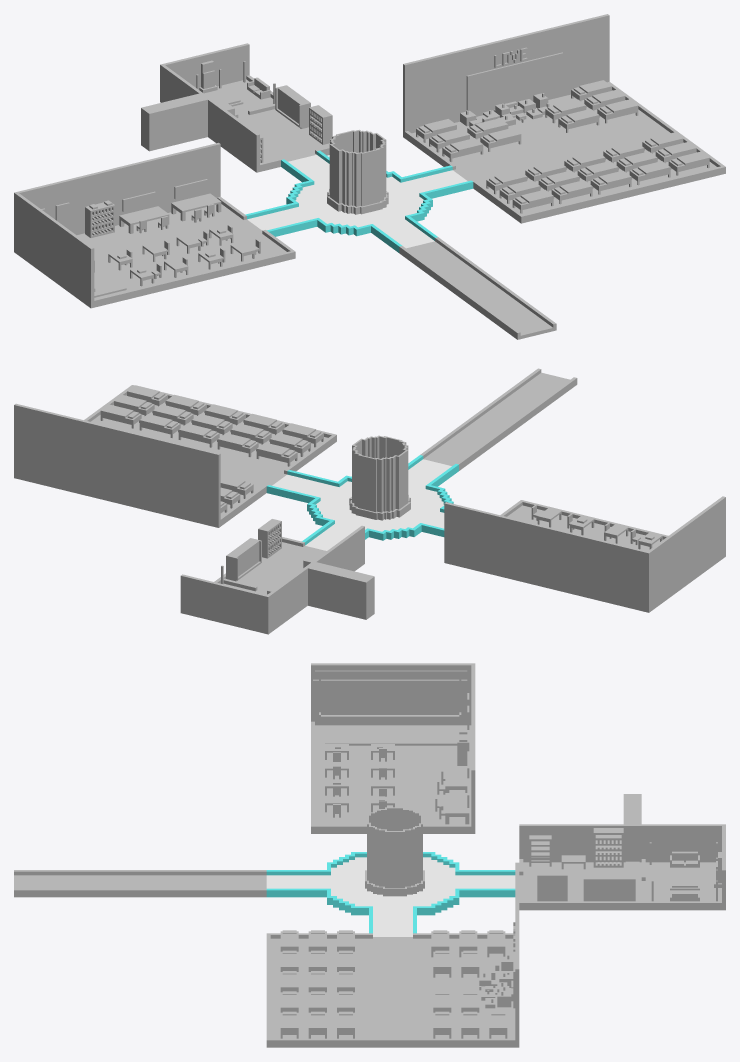
Rendered from QG_Girafas.fbx.
3 renders of one model, top to bottom at view 1: azimuth 30°, elevation 25°; view 2: azimuth 150°, elevation 25°; view 3: azimuth 270°, elevation 25°, orthographic. The views are drawn at different scales.
Visible parts, largest first — view 1: QG_Girafas_19:QG_Girafas_11, QG_Girafas_11:QG_Girafas_2, QG_Girafas_46:QG_Girafas_1, QG_Girafas_9:QG_Girafas_0, QG_Girafas_15:QG_Girafas_6, QG_Girafas_14:QG_Girafas_5, QG_Girafas_13:QG_Girafas_4, QG_Girafas_20:QG_Girafas_12, QG_Girafas_16:QG_Girafas_8, QG_Girafas_22:QG_Girafas_14, QG_Girafas_36:QG_Girafas_24, QG_Girafas_23:QG_Girafas_15 (+5 smaller); view 2: QG_Girafas_19:QG_Girafas_11, QG_Girafas_11:QG_Girafas_2, QG_Girafas_46:QG_Girafas_1, QG_Girafas_9:QG_Girafas_0, QG_Girafas_15:QG_Girafas_6, QG_Girafas_13:QG_Girafas_4, QG_Girafas_20:QG_Girafas_12, QG_Girafas_14:QG_Girafas_5, QG_Girafas_36:QG_Girafas_24, QG_Girafas_44:QG_Girafas_31, QG_Girafas_22:QG_Girafas_14, QG_Girafas_21:QG_Girafas_13; view 3: QG_Girafas_19:QG_Girafas_11, QG_Girafas_11:QG_Girafas_2, QG_Girafas_46:QG_Girafas_1, QG_Girafas_9:QG_Girafas_0, QG_Girafas_15:QG_Girafas_6, QG_Girafas_13:QG_Girafas_4, QG_Girafas_25:QG_Girafas_17, QG_Girafas_36:QG_Girafas_24, QG_Girafas_20:QG_Girafas_12, QG_Girafas_22:QG_Girafas_14, QG_Girafas_14:QG_Girafas_5, QG_Girafas_29:QG_Girafas_21 (+5 smaller).
Part boxes in pixels (x1=…): QG_Girafas_19:QG_Girafas_11: x1=403, y1=14, x2=725, y2=223; QG_Girafas_11:QG_Girafas_2: x1=14, y1=142, x2=295, y2=308; QG_Girafas_46:QG_Girafas_1: x1=141, y1=43, x2=329, y2=172; QG_Girafas_9:QG_Girafas_0: x1=245, y1=150, x2=473, y2=252; QG_Girafas_15:QG_Girafas_6: x1=418, y1=80, x2=709, y2=203; QG_Girafas_14:QG_Girafas_5: x1=416, y1=88, x2=709, y2=213; QG_Girafas_13:QG_Girafas_4: x1=399, y1=237, x2=556, y2=339; QG_Girafas_20:QG_Girafas_12: x1=329, y1=129, x2=386, y2=206; QG_Girafas_16:QG_Girafas_8: x1=466, y1=52, x2=563, y2=110; QG_Girafas_22:QG_Girafas_14: x1=108, y1=193, x2=254, y2=286; QG_Girafas_36:QG_Girafas_24: x1=213, y1=85, x2=332, y2=162; QG_Girafas_23:QG_Girafas_15: x1=85, y1=202, x2=260, y2=279; QG_Girafas_19:QG_Girafas_11: x1=14, y1=385, x2=336, y2=527; QG_Girafas_11:QG_Girafas_2: x1=444, y1=496, x2=725, y2=612; QG_Girafas_46:QG_Girafas_1: x1=180, y1=525, x2=374, y2=634; QG_Girafas_9:QG_Girafas_0: x1=266, y1=455, x2=458, y2=550; QG_Girafas_15:QG_Girafas_6: x1=100, y1=385, x2=321, y2=506; QG_Girafas_13:QG_Girafas_4: x1=420, y1=368, x2=577, y2=470; QG_Girafas_20:QG_Girafas_12: x1=352, y1=435, x2=408, y2=512; QG_Girafas_14:QG_Girafas_5: x1=100, y1=393, x2=323, y2=512; QG_Girafas_36:QG_Girafas_24: x1=226, y1=519, x2=324, y2=581; QG_Girafas_44:QG_Girafas_31: x1=247, y1=546, x2=326, y2=594; QG_Girafas_22:QG_Girafas_14: x1=537, y1=508, x2=662, y2=549; QG_Girafas_21:QG_Girafas_13: x1=349, y1=495, x2=410, y2=520; QG_Girafas_19:QG_Girafas_11: x1=266, y1=862, x2=519, y2=1047; QG_Girafas_11:QG_Girafas_2: x1=311, y1=663, x2=475, y2=833; QG_Girafas_46:QG_Girafas_1: x1=519, y1=794, x2=725, y2=910; QG_Girafas_9:QG_Girafas_0: x1=266, y1=852, x2=515, y2=936; QG_Girafas_15:QG_Girafas_6: x1=280, y1=930, x2=507, y2=1029; QG_Girafas_13:QG_Girafas_4: x1=14, y1=870, x2=266, y2=897; QG_Girafas_25:QG_Girafas_17: x1=321, y1=679, x2=459, y2=714; QG_Girafas_36:QG_Girafas_24: x1=529, y1=828, x2=635, y2=901; QG_Girafas_20:QG_Girafas_12: x1=367, y1=807, x2=422, y2=888; QG_Girafas_22:QG_Girafas_14: x1=325, y1=744, x2=469, y2=824; QG_Girafas_14:QG_Girafas_5: x1=280, y1=931, x2=507, y2=1038; QG_Girafas_29:QG_Girafas_21: x1=325, y1=726, x2=457, y2=745.
Size of the model in its own units: 378 by 43 by 355.
